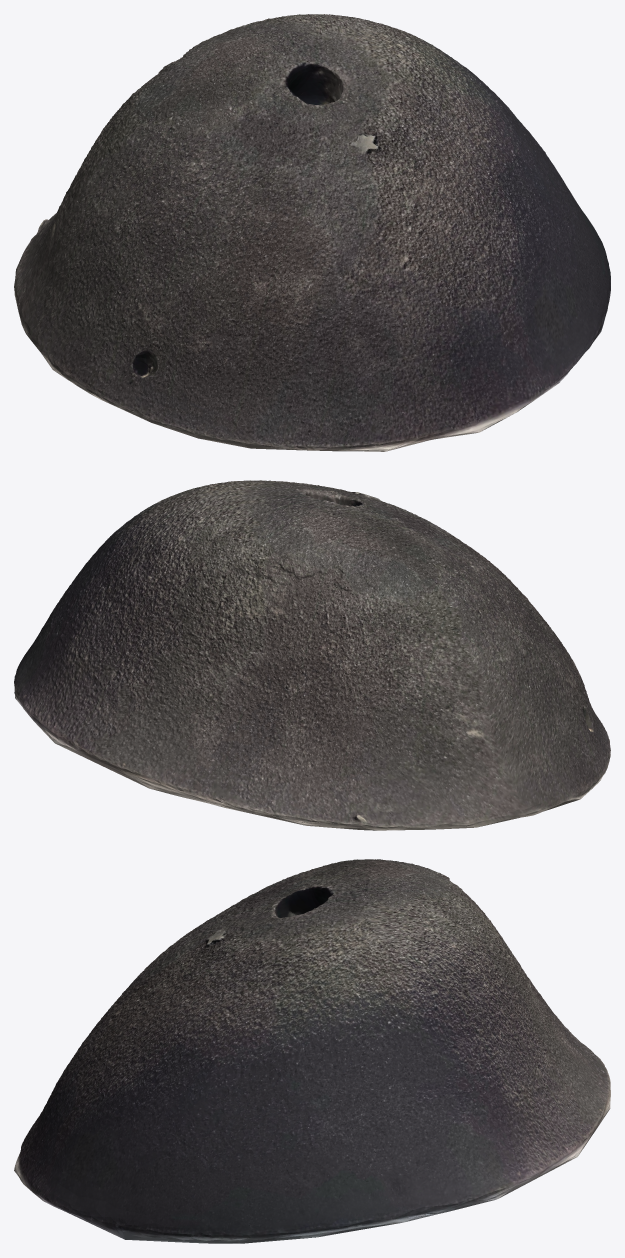
File: Teknik_FatSlopers_1.glb
3 views of the same model, one above another, from view 1: azimuth 30°, elevation 25°; view 2: azimuth 150°, elevation 25°; view 3: azimuth 270°, elevation 25° (orthographic). The views are drawn at different scales.
Size of the model in its own units: 1.17 by 0.5889 by 1.14.
Materials: 1 (1 with a texture image).
